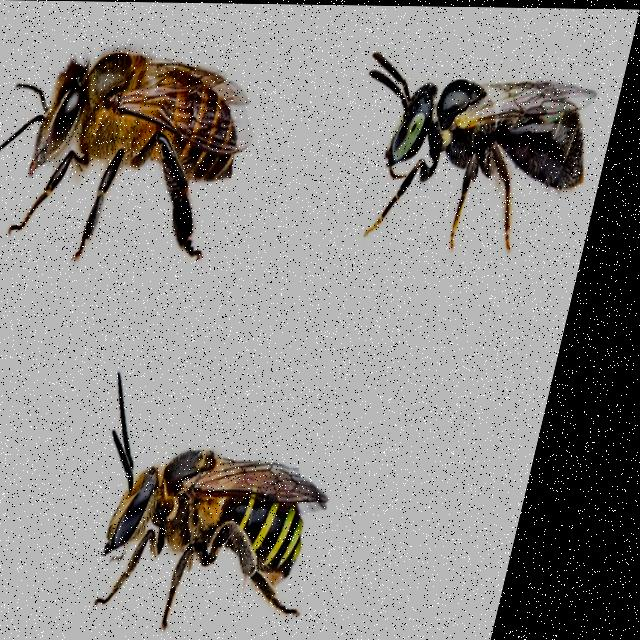Apis-mellifera-scutellata: (0, 49, 279, 269)
Lasioglossum: (322, 32, 628, 304)
